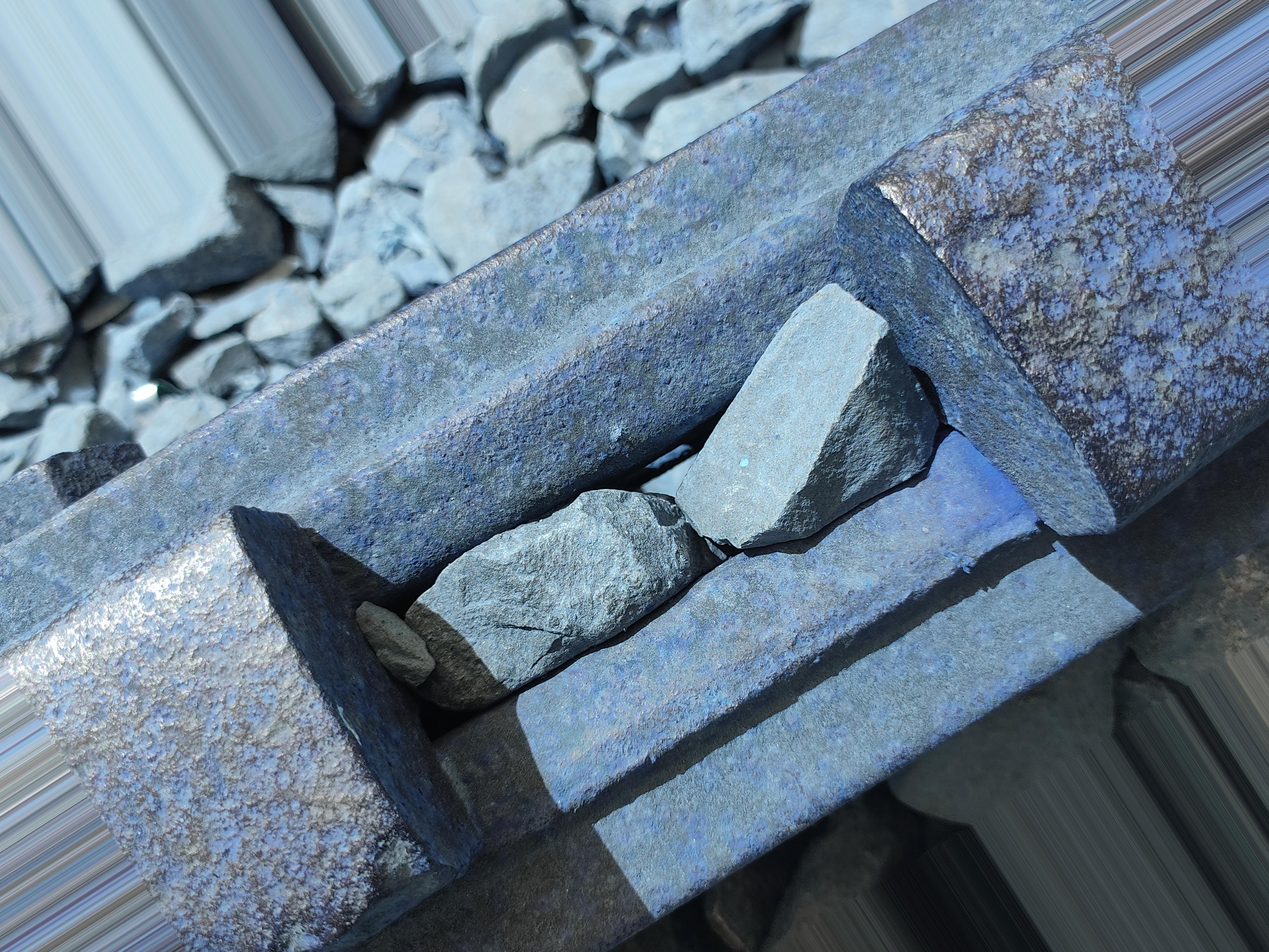tracks_fault: (57, 151, 1184, 891)
